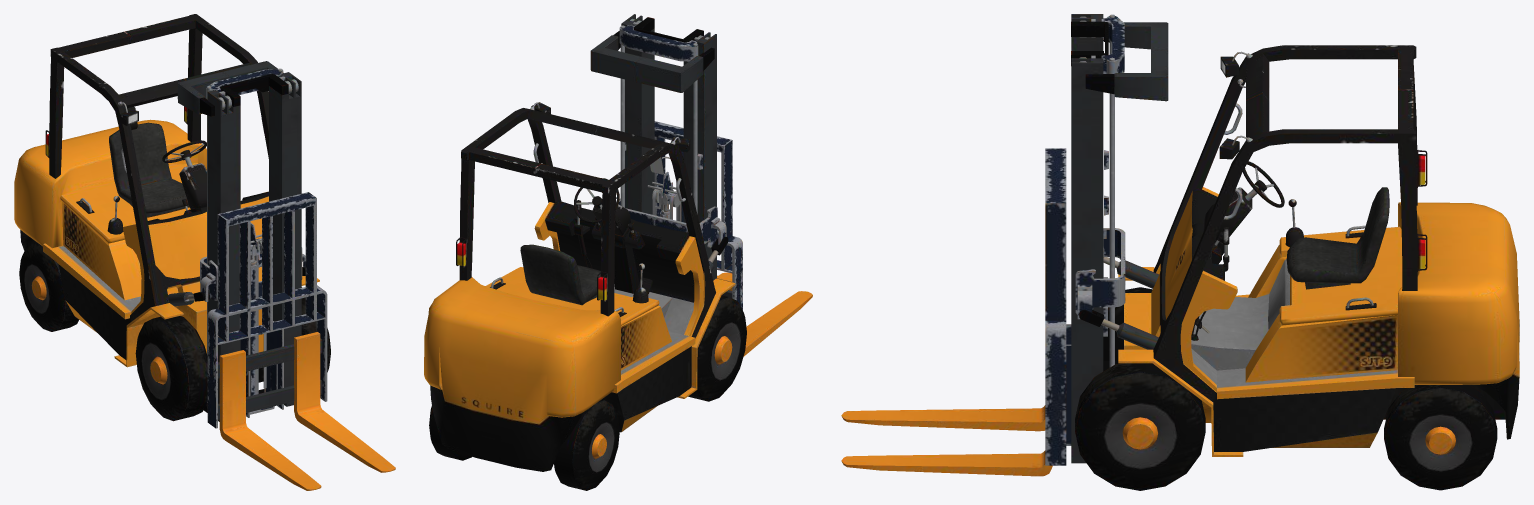
Rendered from forklift.glb.
3 views of the same model, side by side, from view 1: azimuth 30°, elevation 25°; view 2: azimuth 150°, elevation 25°; view 3: azimuth 270°, elevation 25° (orthographic). The views are drawn at different scales.
Parts seen in each view (by area): view 1: Truck, Carriage, Mast, DriveWheelR, SteerWheelR, SteeringWheel; view 2: Truck, Mast, Carriage, SteerWheelR, DriveWheelR, SteerWheelL, SteeringWheel; view 3: Truck, Carriage, Mast, DriveWheelL, SteerWheelL.
Boxes of the visible parts, box(x1,y1,x2,y2) form: Truck: box(14, 14, 319, 367); Carriage: box(207, 192, 395, 490); Mast: box(206, 68, 301, 421); DriveWheelR: box(135, 316, 207, 421); SteerWheelR: box(19, 242, 78, 331); SteeringWheel: box(162, 140, 206, 162); Truck: box(424, 22, 735, 471); Mast: box(618, 14, 716, 280); Carriage: box(654, 121, 812, 356); SteerWheelR: box(554, 399, 619, 490); DriveWheelR: box(688, 295, 746, 401); SteerWheelL: box(429, 406, 471, 460); SteeringWheel: box(574, 178, 619, 223); Truck: box(1075, 16, 1519, 456); Carriage: box(841, 148, 1066, 476); Mast: box(1066, 14, 1117, 463); DriveWheelL: box(1075, 363, 1205, 490); SteerWheelL: box(1384, 384, 1497, 490).
Bounding box in the file's own units: 1.12 × 2.21 × 3.3.
Materials: 1 (1 with a texture image).
